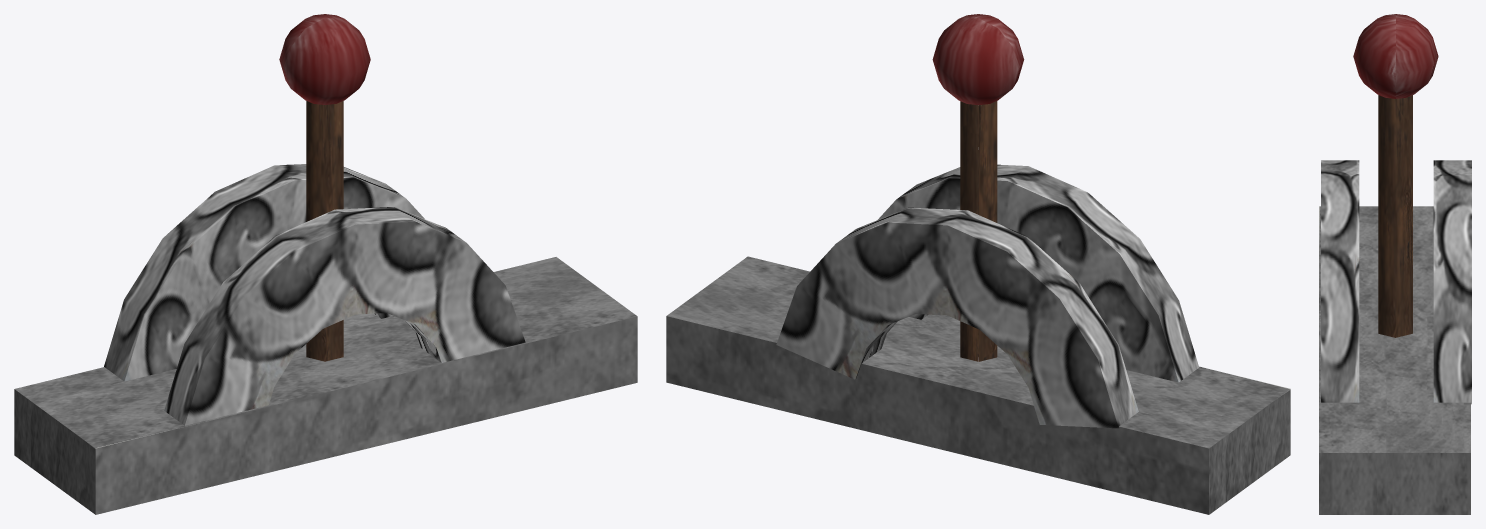
Rendered from switch.FBX.
The picture shows the model from 3 angles, left to right: view 1: azimuth 30°, elevation 25°; view 2: azimuth 150°, elevation 25°; view 3: azimuth 270°, elevation 25°; orthographic projection. The views are drawn at different scales.
Visible parts, largest first — view 1: Box001, Cylinder001; view 2: Box001, Cylinder001; view 3: Box001, Cylinder001.
Part boxes in pixels (x1,y1,x2,y2): Box001: (14,164,637,514); Cylinder001: (279,14,370,361); Box001: (666,164,1290,514); Cylinder001: (932,14,1024,361); Box001: (1319,160,1471,514); Cylinder001: (1353,14,1438,337).
Bounding box in the file's own units: 80.17 × 56.63 × 21.
Materials: 2 (2 with a texture image).
